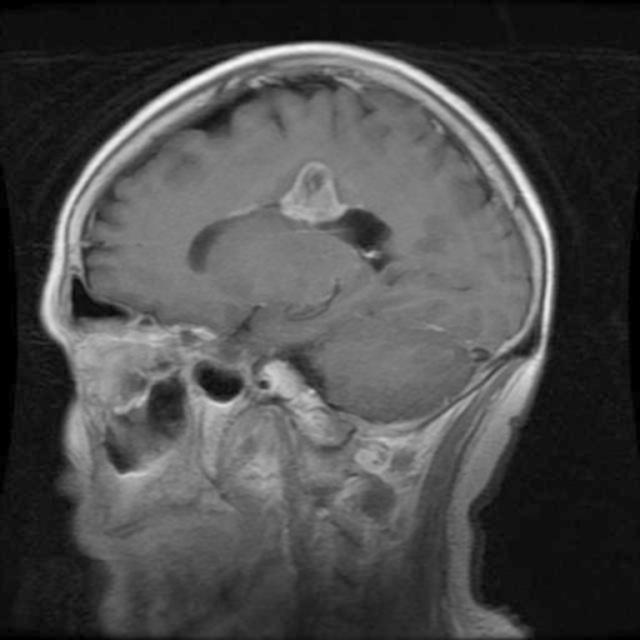pituitary tumor: (280, 161, 341, 221)
